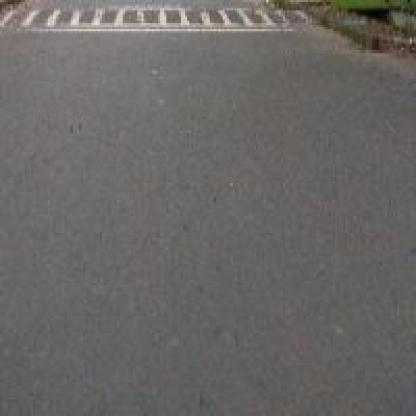Speed Bump: (0, 2, 318, 35)
